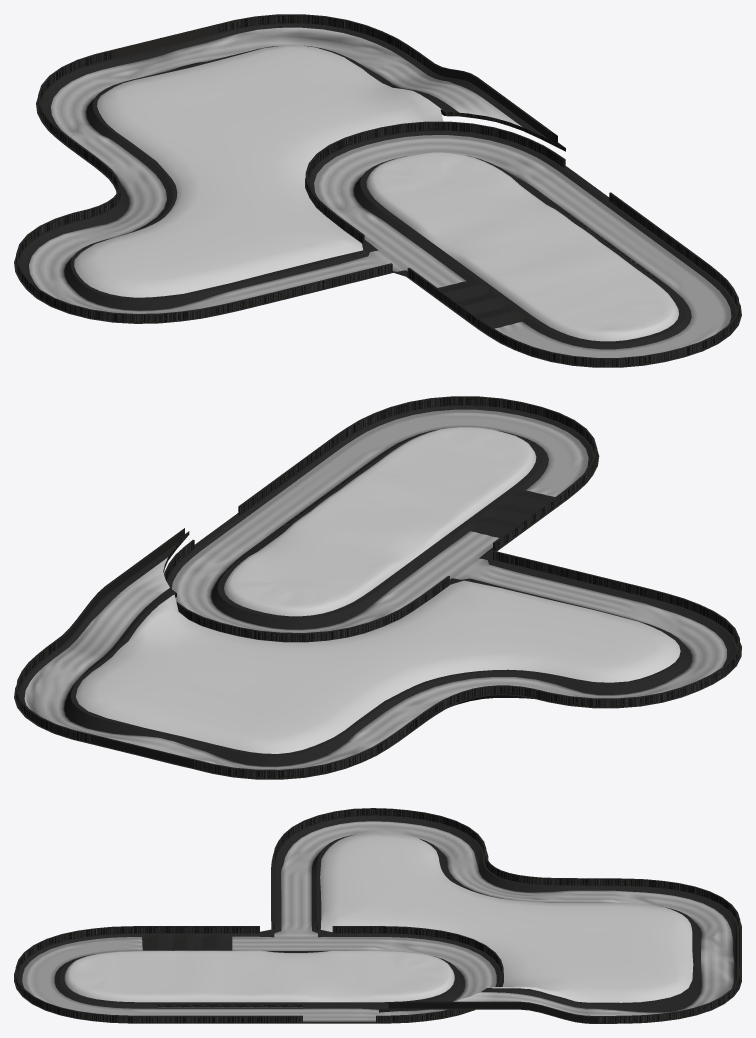
File: test_track01.fbx
The picture shows the model from 3 angles, top to bottom: view 1: azimuth 30°, elevation 25°; view 2: azimuth 150°, elevation 25°; view 3: azimuth 270°, elevation 25°; orthographic projection. The views are drawn at different scales.
Parts seen in each view (by area): view 1: track_grass, track_surface, track_walls; view 2: track_grass, track_surface, track_walls; view 3: track_grass, track_surface, track_walls.
Boxes of the visible parts, x1=… form: track_grass: x1=74, y1=45, x2=678, y2=341; track_surface: x1=14, y1=23, x2=741, y2=367; track_walls: x1=16, y1=14, x2=739, y2=366; track_grass: x1=76, y1=427, x2=680, y2=753; track_surface: x1=14, y1=405, x2=741, y2=779; track_walls: x1=16, y1=396, x2=739, y2=778; track_grass: x1=64, y1=832, x2=693, y2=1002; track_surface: x1=14, y1=815, x2=741, y2=1023; track_walls: x1=15, y1=808, x2=740, y2=1023.
Size of the model in its own units: 137 by 9.59 by 201.
